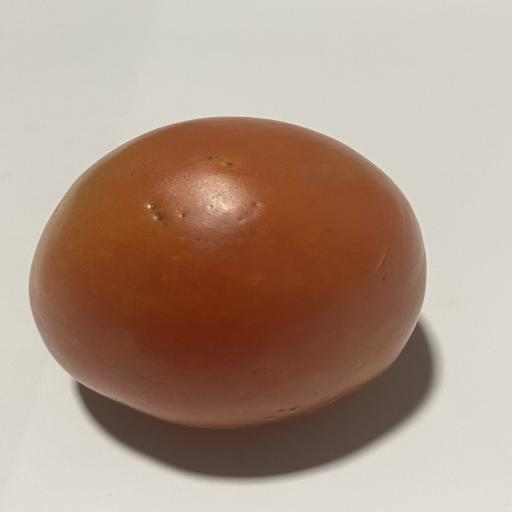unripe: (30, 117, 425, 428)
